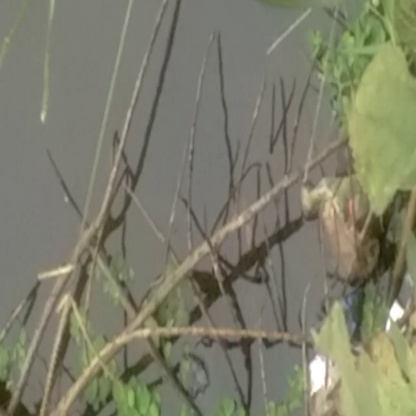branch: (44, 14, 156, 334)
